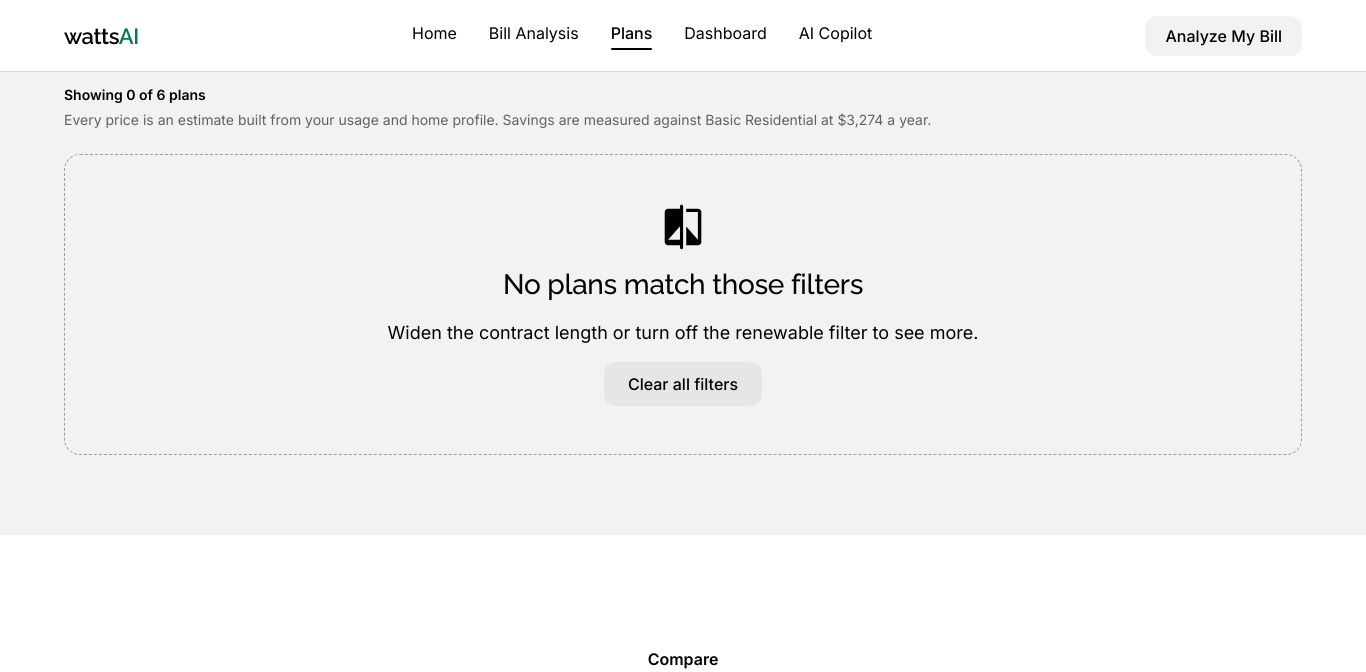
Test: filters › shows an empty state when nothing matches, with a way out
The image size is (1366, 672).
(page scrolled)
Expected: the heading "No plans match those filters" is shown, [503,267,863,303]
Click the button "Clear all filters".
click(683, 384)  # box [604,362,762,406]
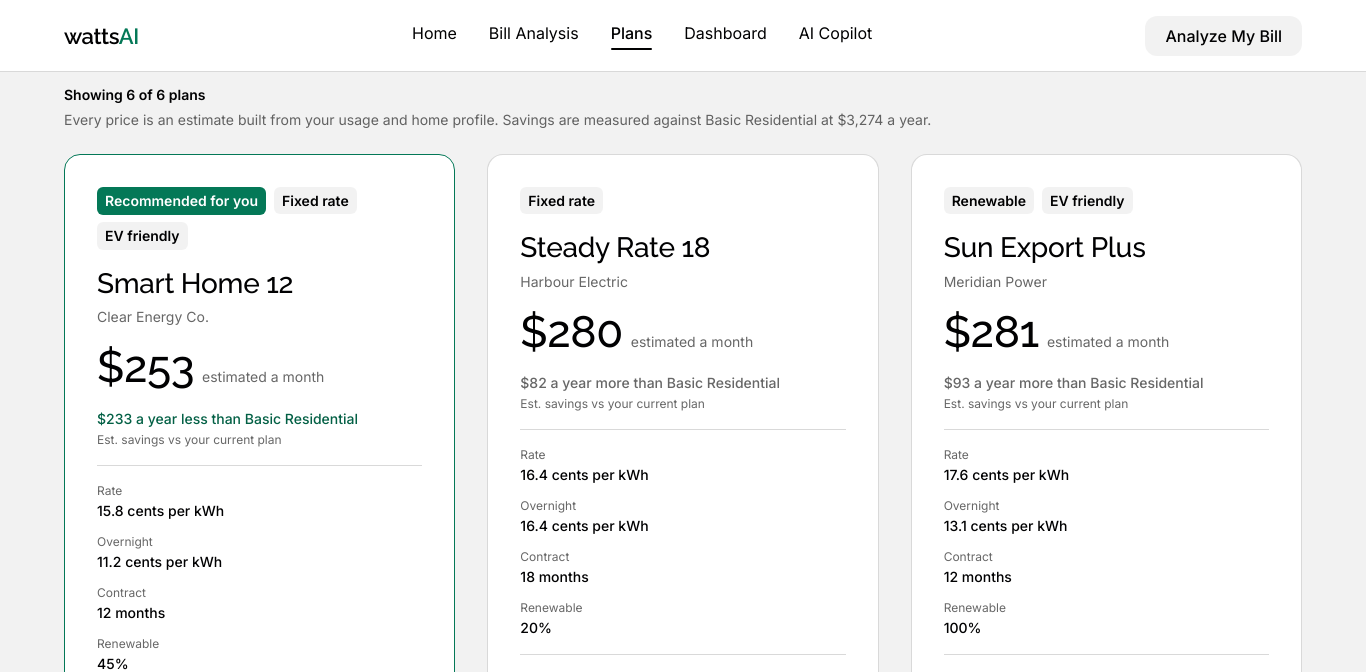
Result: the heading "No plans match those filters" is gone
